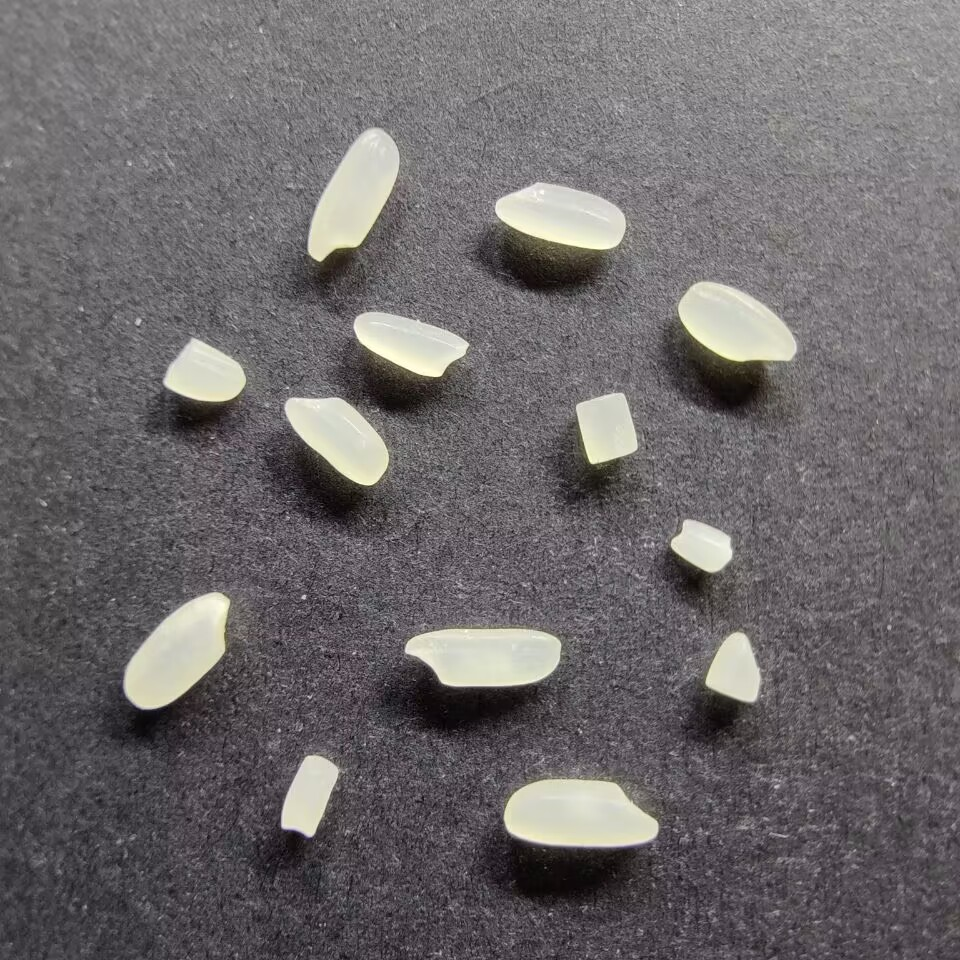broken: (162, 337, 247, 402), (277, 753, 340, 837), (573, 392, 642, 466), (703, 630, 760, 704), (668, 518, 736, 574)
rice: (121, 588, 230, 711), (304, 126, 399, 262), (501, 776, 660, 850), (676, 280, 799, 364), (282, 395, 391, 487), (402, 626, 562, 688), (492, 181, 626, 251), (352, 310, 468, 378)
